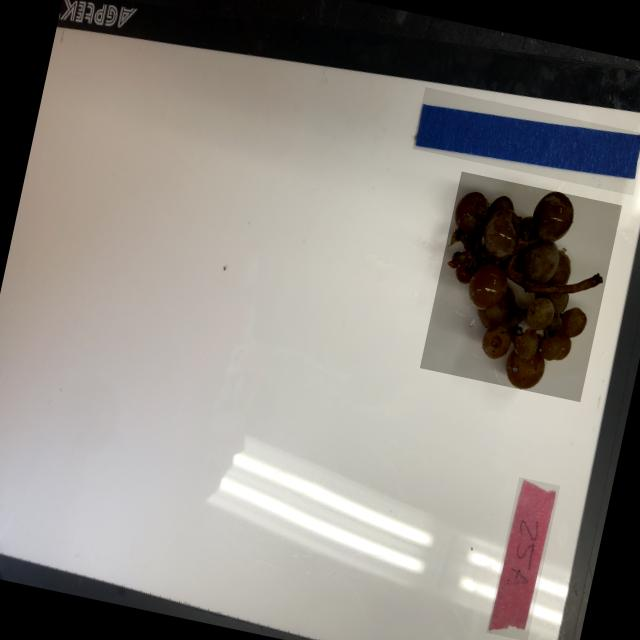grape_cluster: (418, 170, 620, 402)
index: (485, 476, 559, 640)
measure_label: (411, 86, 640, 195)
